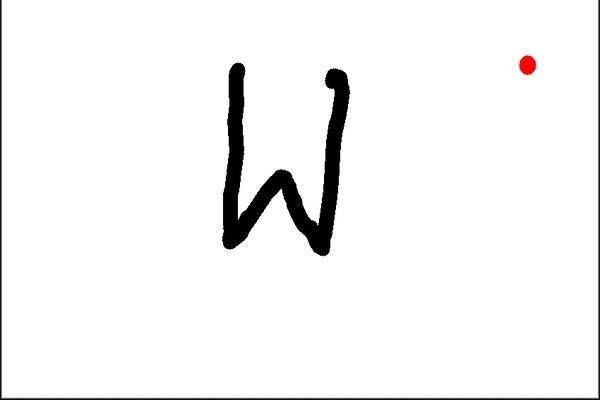w: (202, 50, 358, 278)
